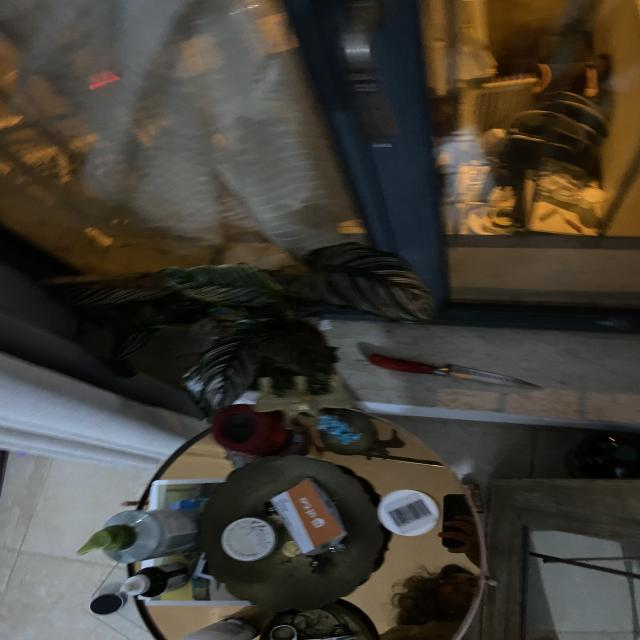Hammer: (311, 346, 567, 387)
